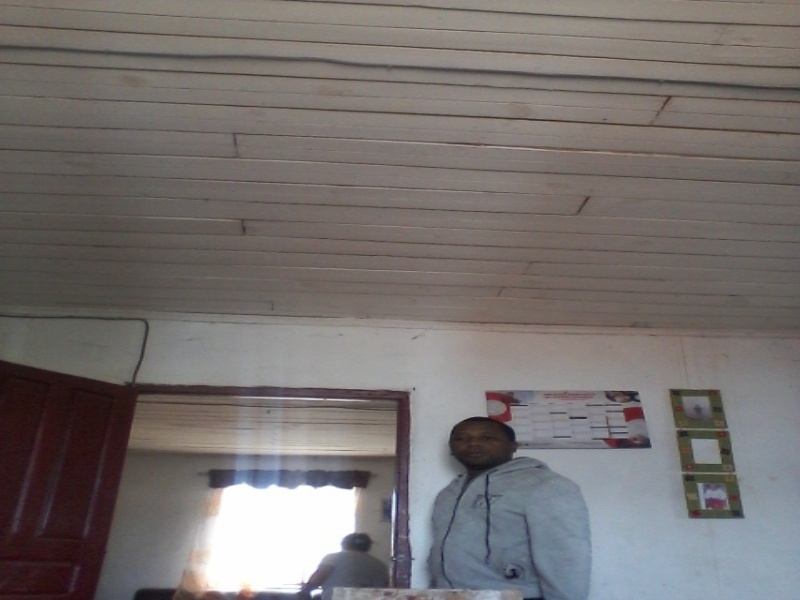TsisyArotava: (441, 409, 528, 482)
